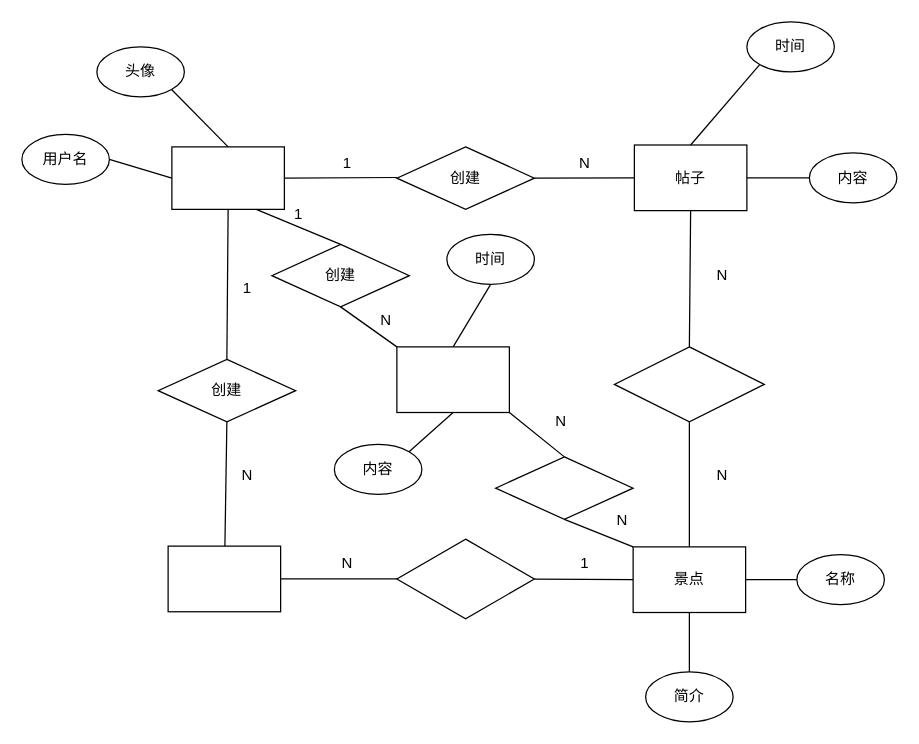
Some shapes in this 919 by 744 pixel diagram are drawn without their labels. The box of each missing label's shape, as (x1, y1, x2, y2) in pixels:
包含: (396, 538, 534, 619)
手帐: (396, 346, 509, 412)
描述: (613, 346, 764, 422)
攻略: (167, 545, 281, 612)
用户: (171, 146, 284, 209)
记录: (494, 456, 633, 519)
